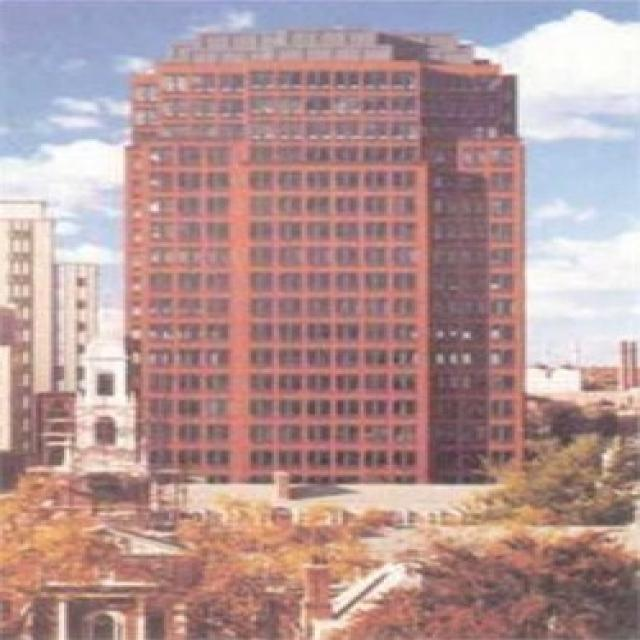building: (119, 28, 526, 484)
